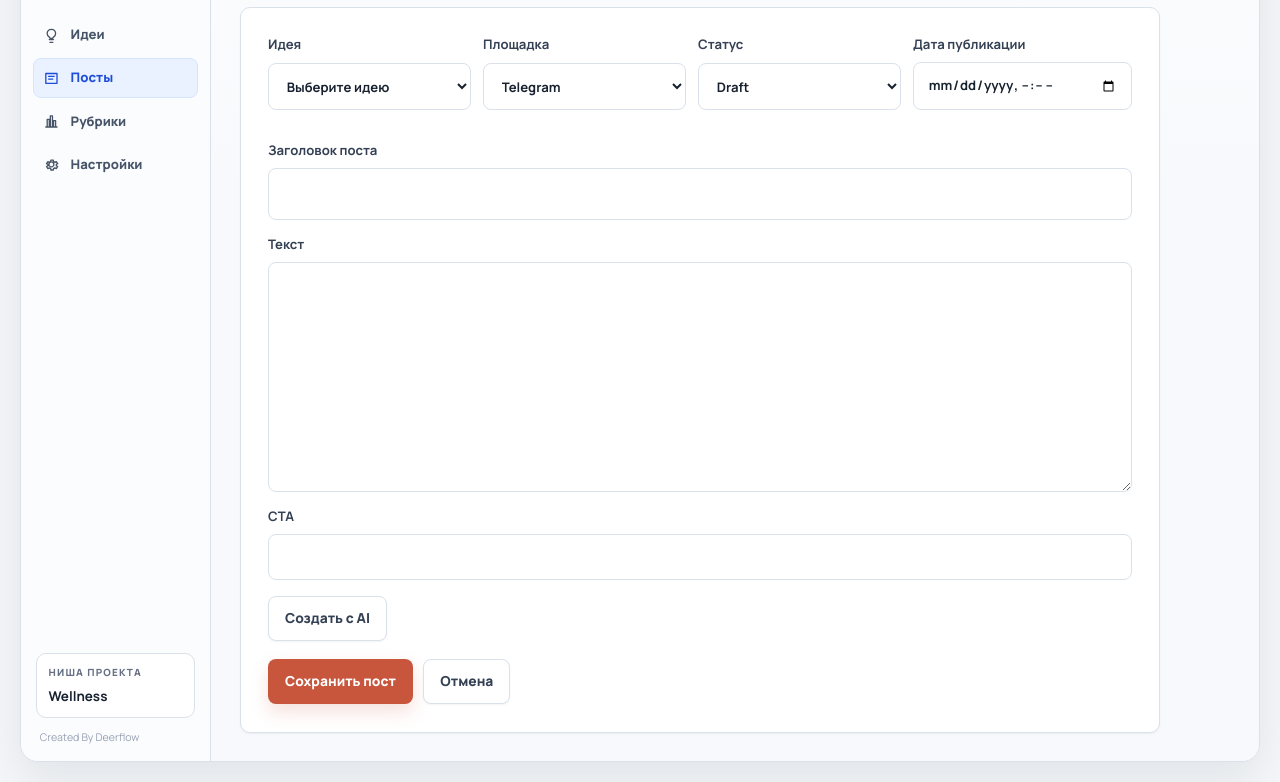
Test case: new post editor generates an AI draft without saving it
(page scrolled)
Click the button "Создать с AI" at (328, 618), box [268,596,387,641]
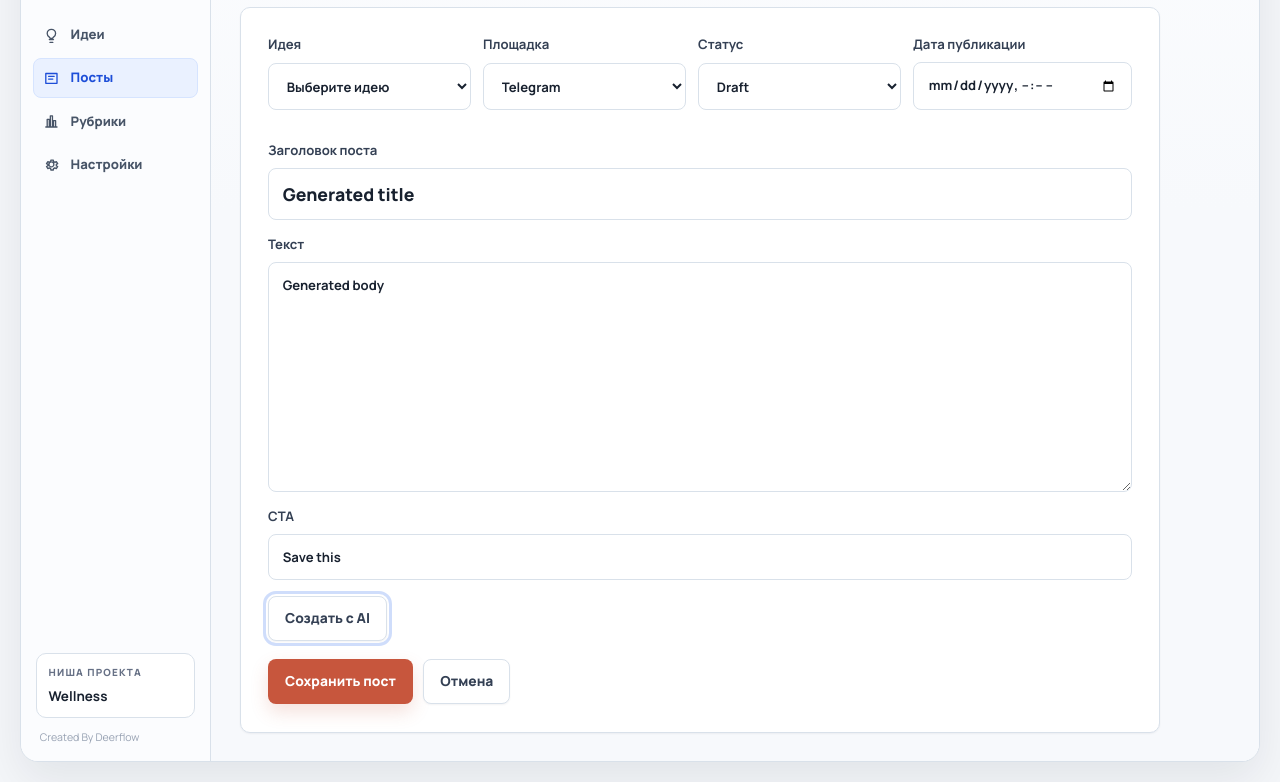
Expected: the field showing "Generated title" is shown, [268,168,1132,220]
Expected: the text box showing "Generated body" is shown, [268,262,1132,492]
Expected: the field showing "Save this" is shown, [268,534,1132,580]
